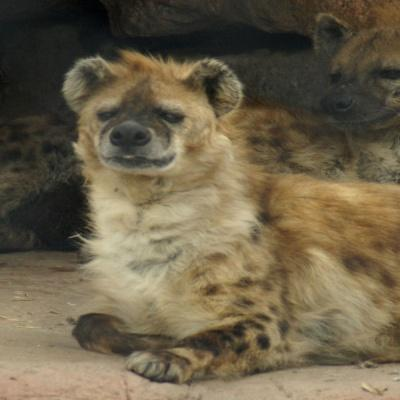hyenas: (44, 40, 400, 400)
